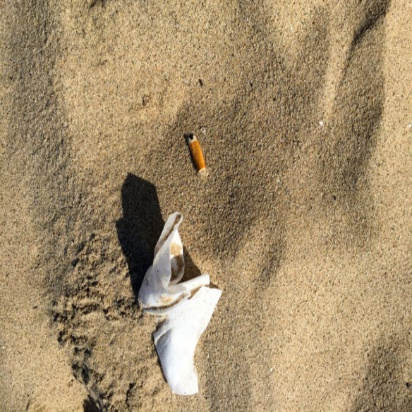cigarette: (184, 131, 217, 181)
